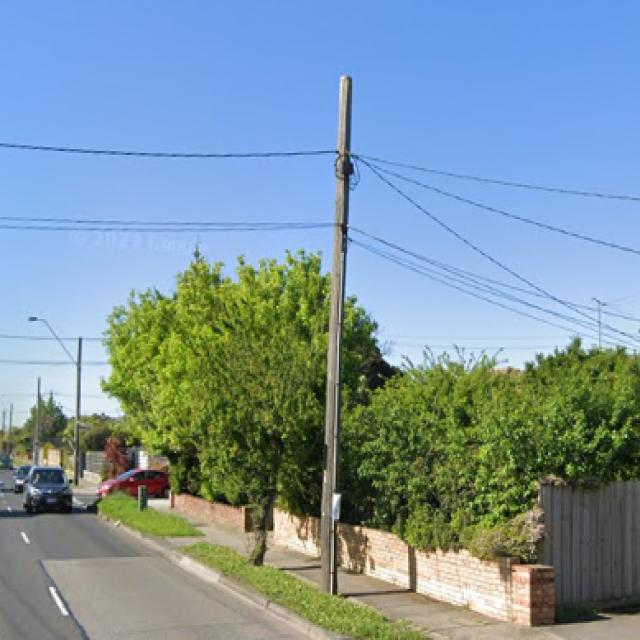streetlight: (27, 314, 78, 368)
timber-pole: (319, 74, 354, 596), (73, 336, 83, 486), (34, 378, 42, 468)
